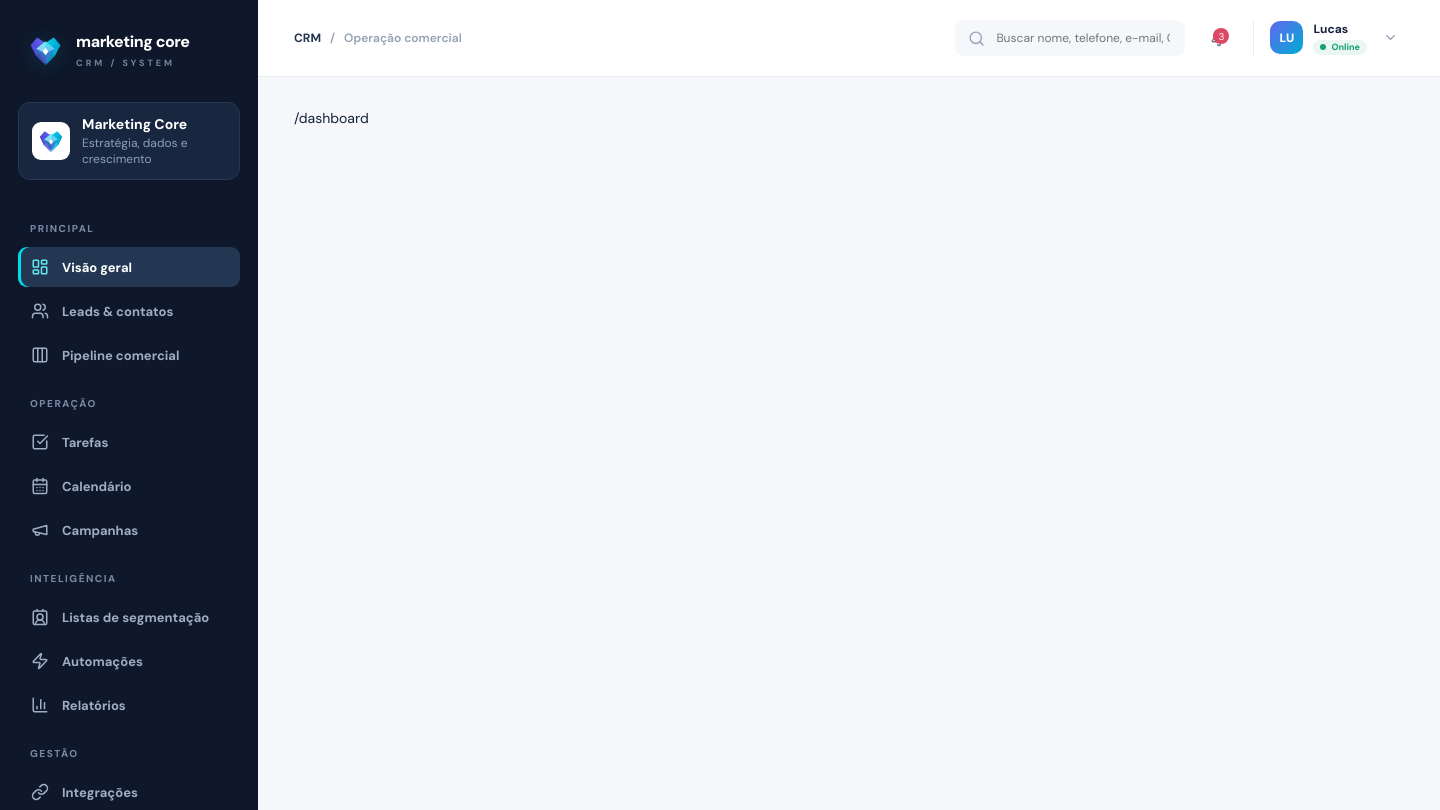
Test: AppShell › leva para a tela relacionada ao clicar em uma notificação
Click the button named "Notificações" at (1219, 38), box [1204,23,1234,53]
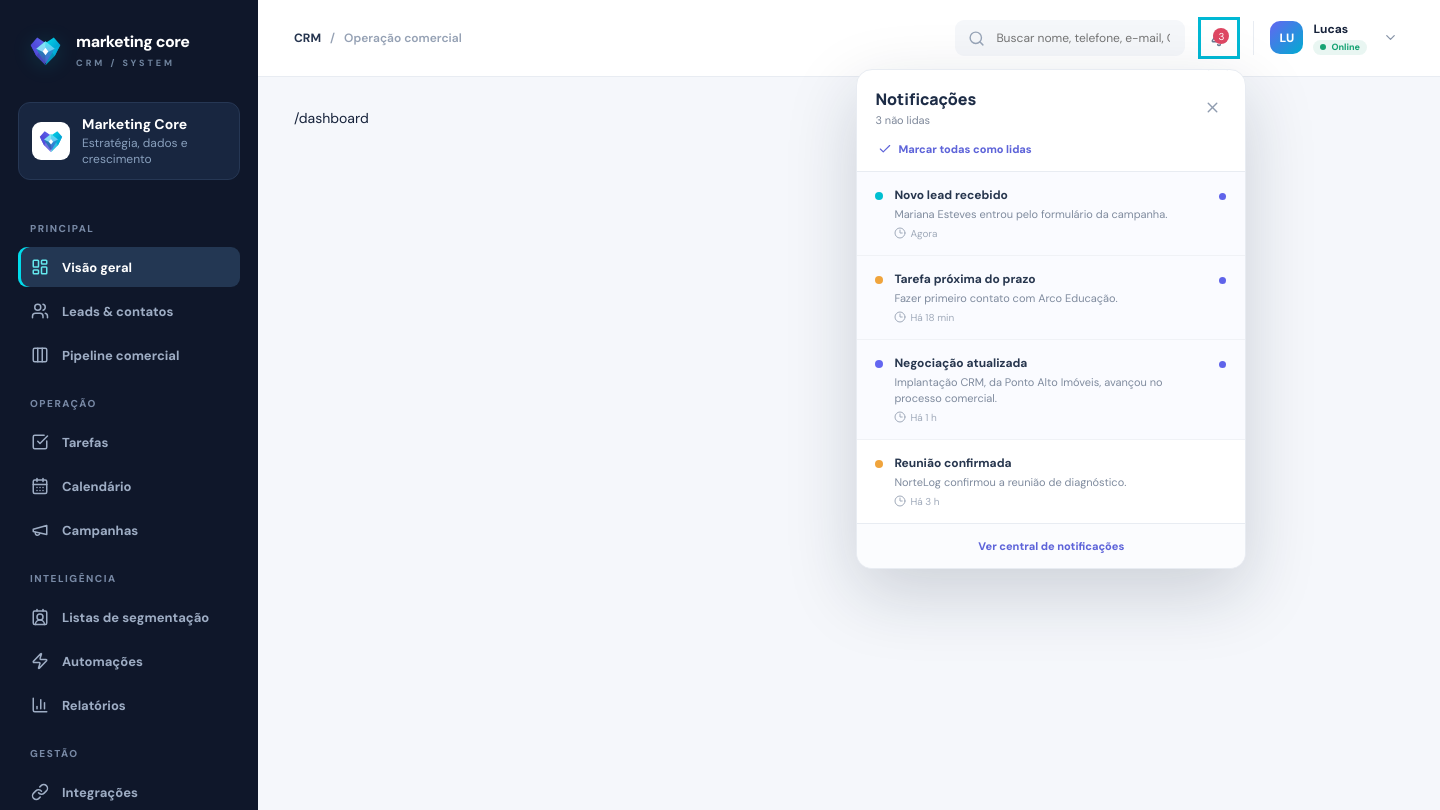
Click the button "Novo lead recebido" at (1051, 214), box [857,172,1245,256]
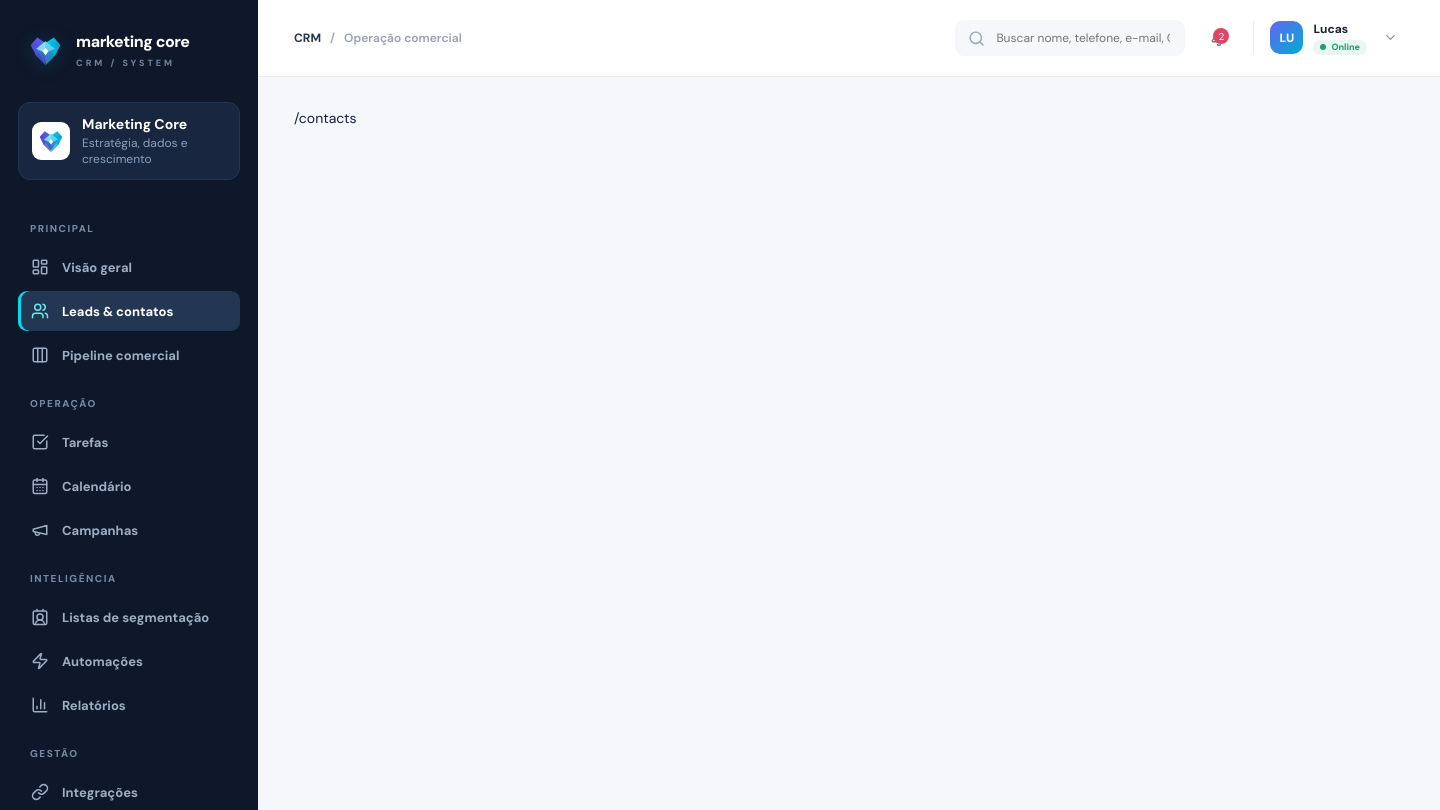
Check: the text with test id "current-location" reads "/contacts", box [294,109,357,127]
